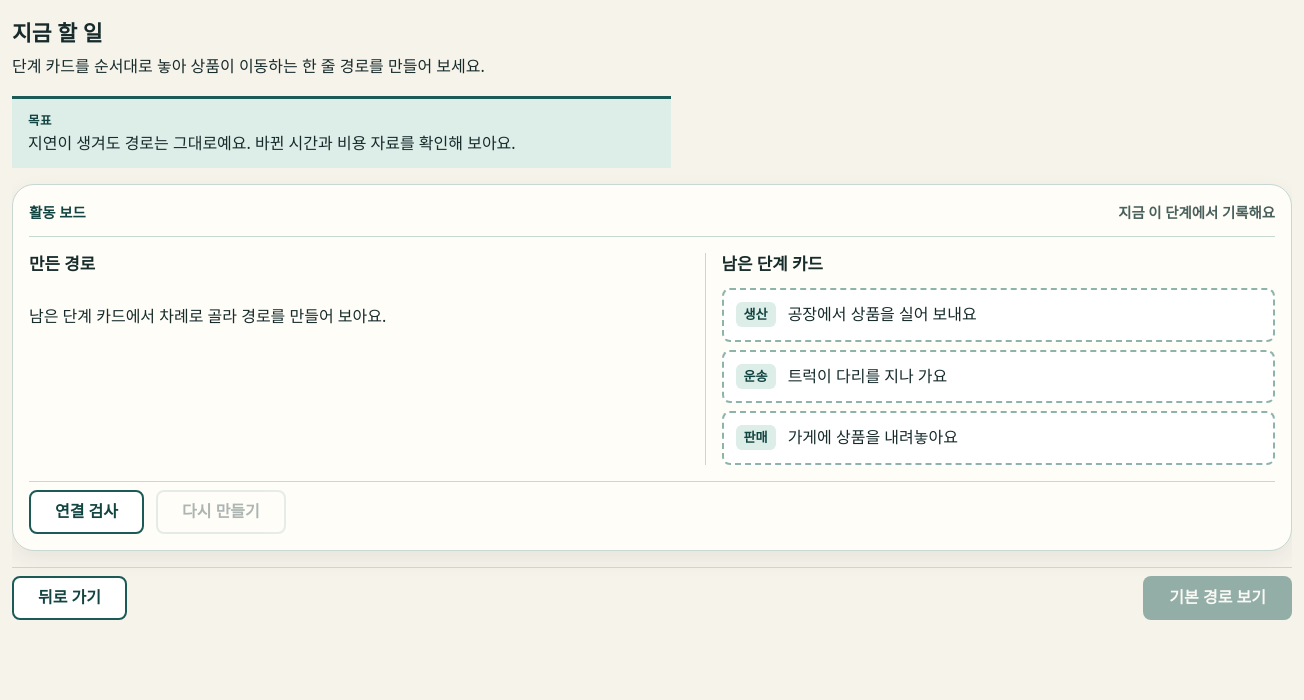
RouteWorkbench — 경로 조립 단계 › 카드를 차례로 넣고 연결 검사를 통과하면 다음 단계가 열린다
What coordinates should you click on to do the following:
click the button with aria-label "경로에 넣기: 공장에서 상품을 실어 보내요"
I would click on:
 (756, 315)
Its box is x1=722 y1=288 x2=1275 y2=342.
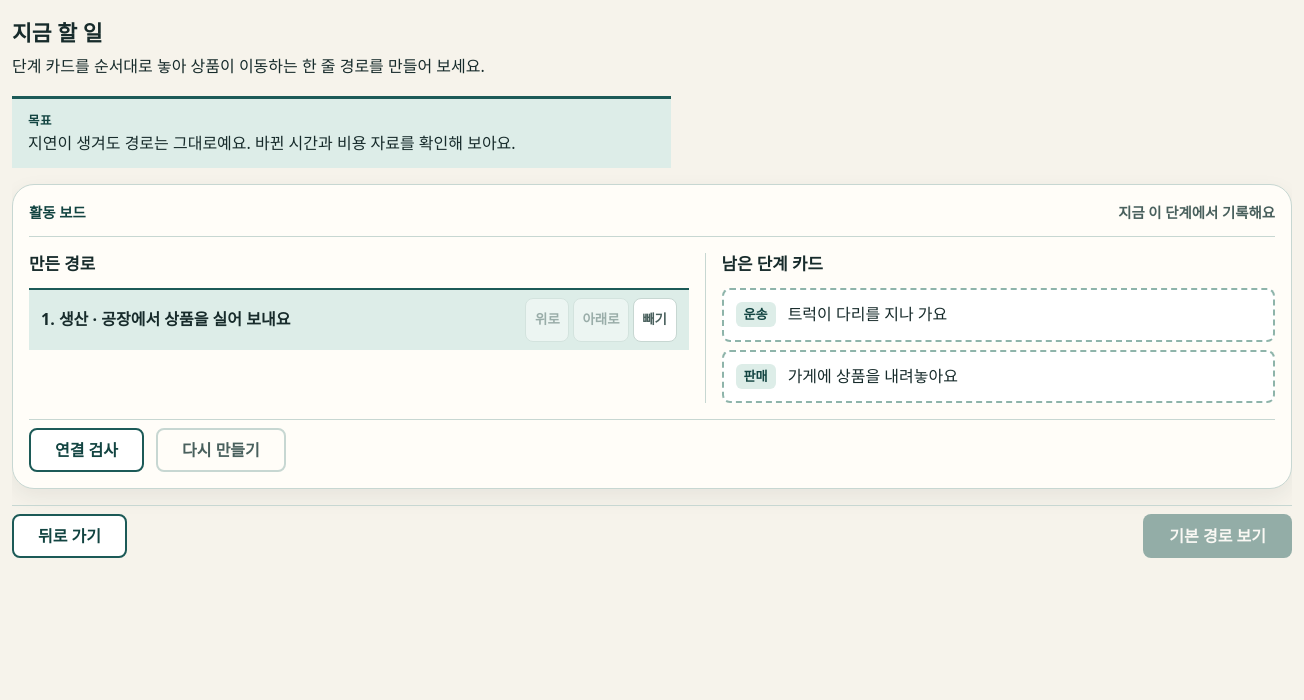
What coordinates should you click on to do the following:
click the button with aria-label "경로에 넣기: 트럭이 다리를 지나 가요"
I would click on:
 (756, 315)
Its box is x1=722 y1=288 x2=1275 y2=342.
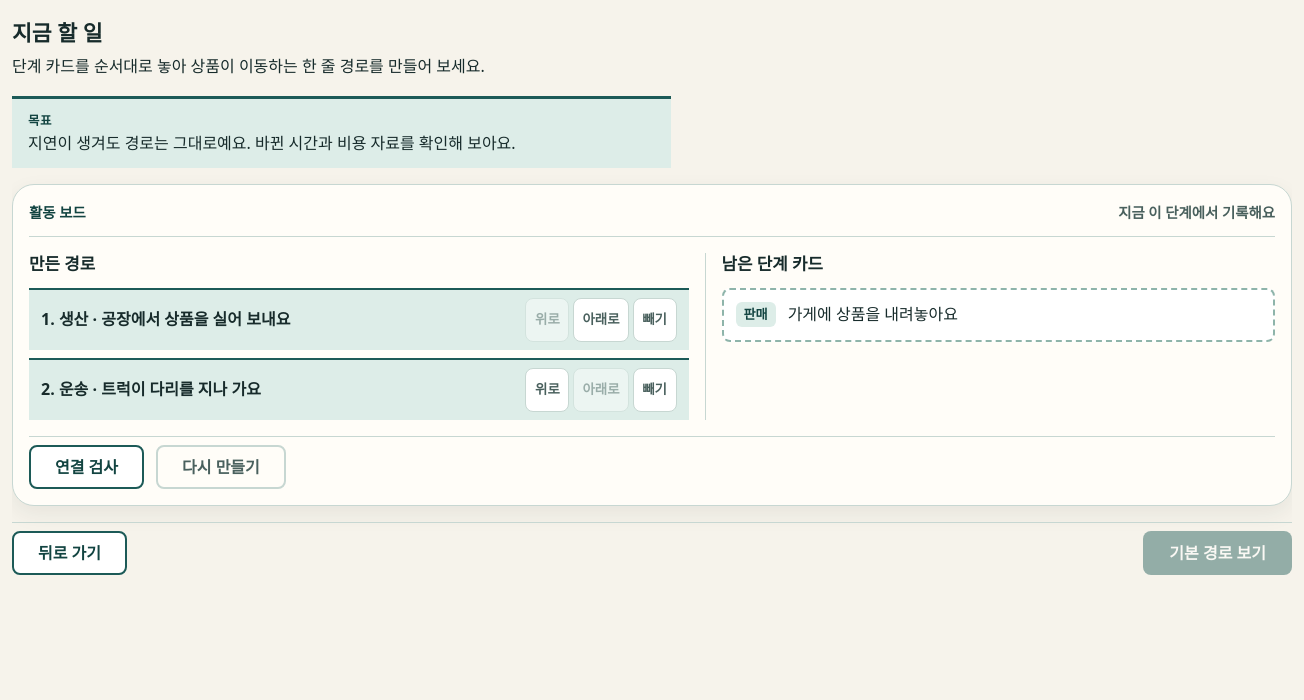
What coordinates should you click on to do the following:
click the button with aria-label "경로에 넣기: 가게에 상품을 내려놓아요"
I would click on:
 (756, 315)
Its box is x1=722 y1=288 x2=1275 y2=342.
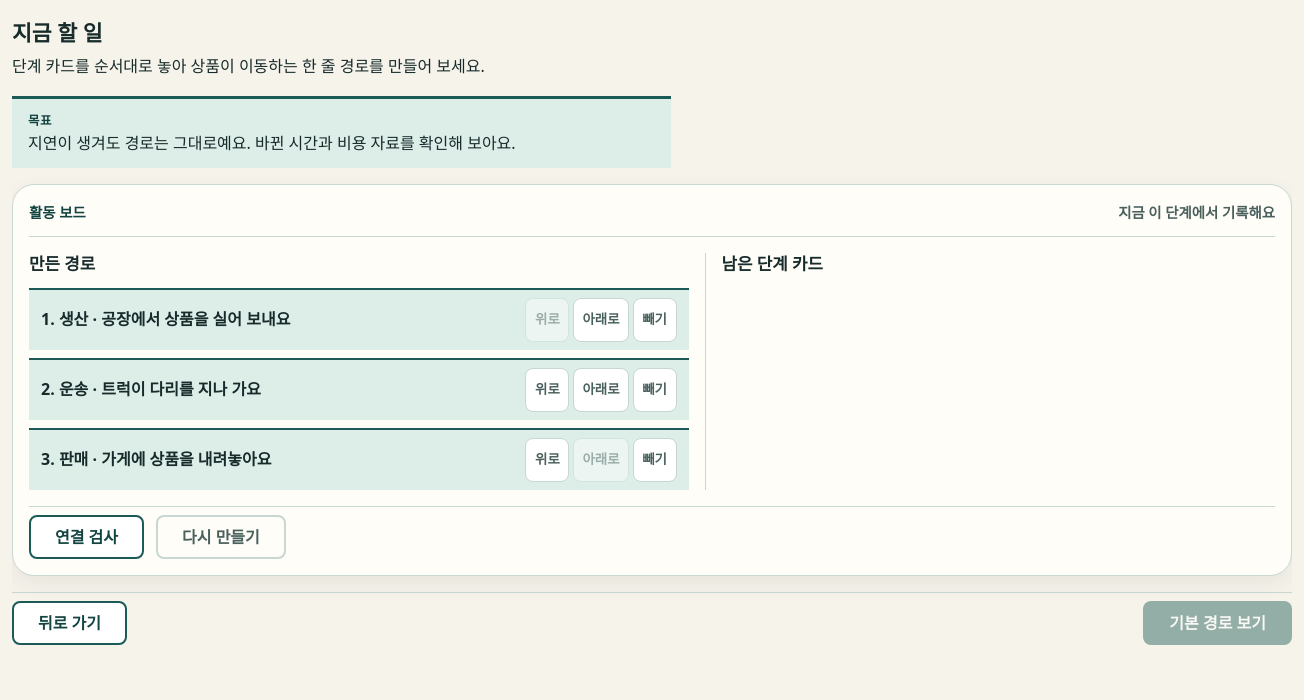
expect the button "기본 경로 보기" is disabled: met, box x1=1143 y1=601 x2=1292 y2=645
What coordinates should you click on to do the following:
click the button "연결 검사"
I would click on:
 (86, 537)
Its box is x1=29 y1=515 x2=144 y2=559.
(page scrolled)
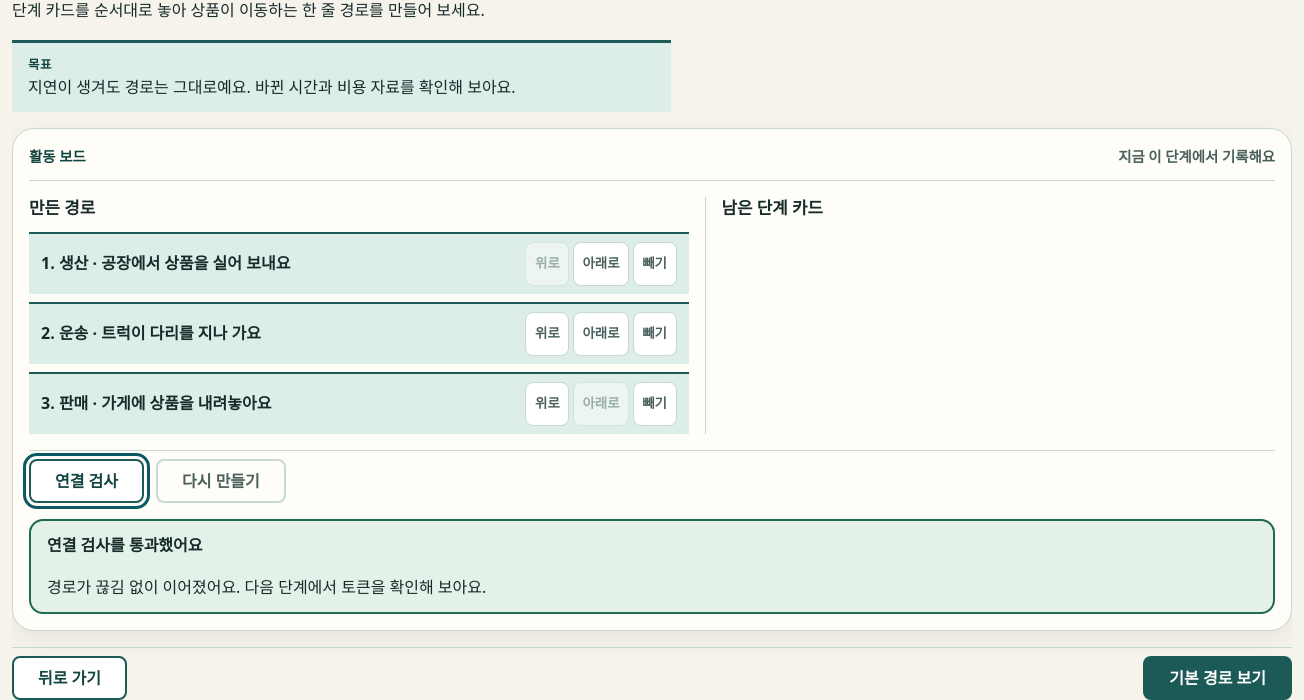
expect the text "연결 검사를 통과했어요" is shown: met, box x1=47 y1=534 x2=202 y2=556
expect the button "기본 경로 보기" is enabled: met
What coordinates should you click on to do the following:
click the button "기본 경로 보기"
I would click on:
 (1218, 678)
Its box is x1=1143 y1=656 x2=1292 y2=699.
(page scrolled)
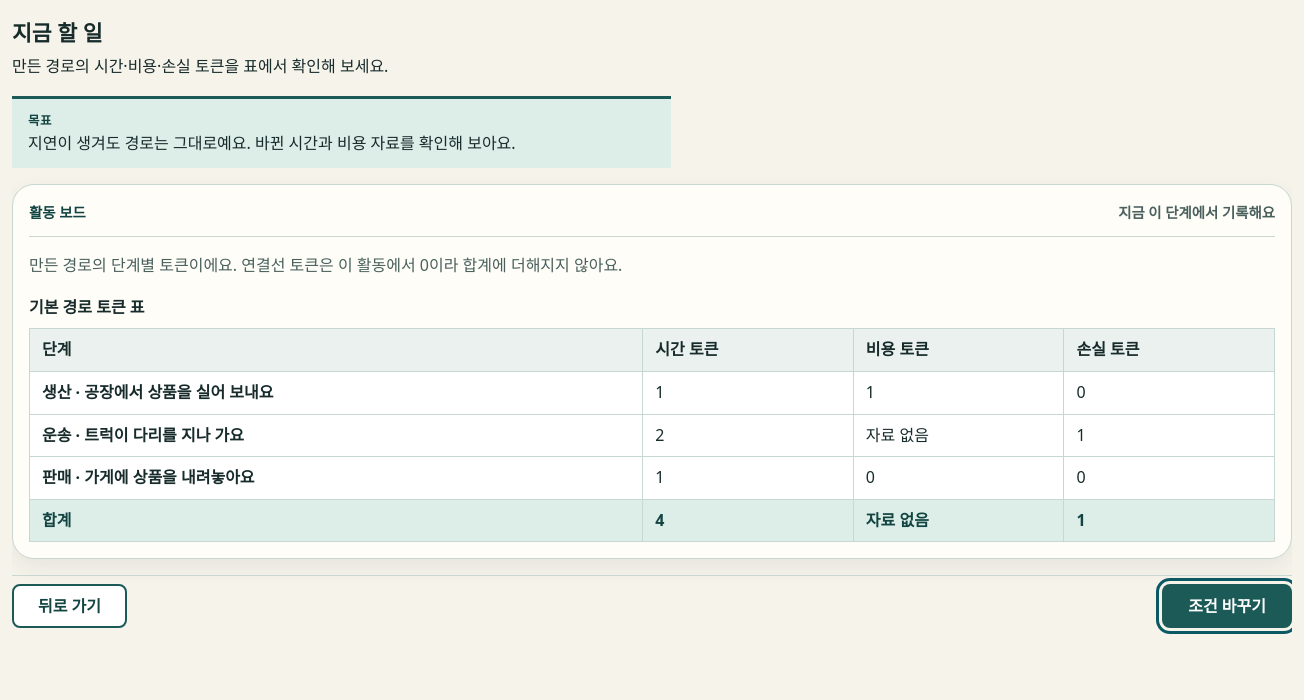
expect the column heading "합계" is shown: met, box x1=30 y1=499 x2=643 y2=542
